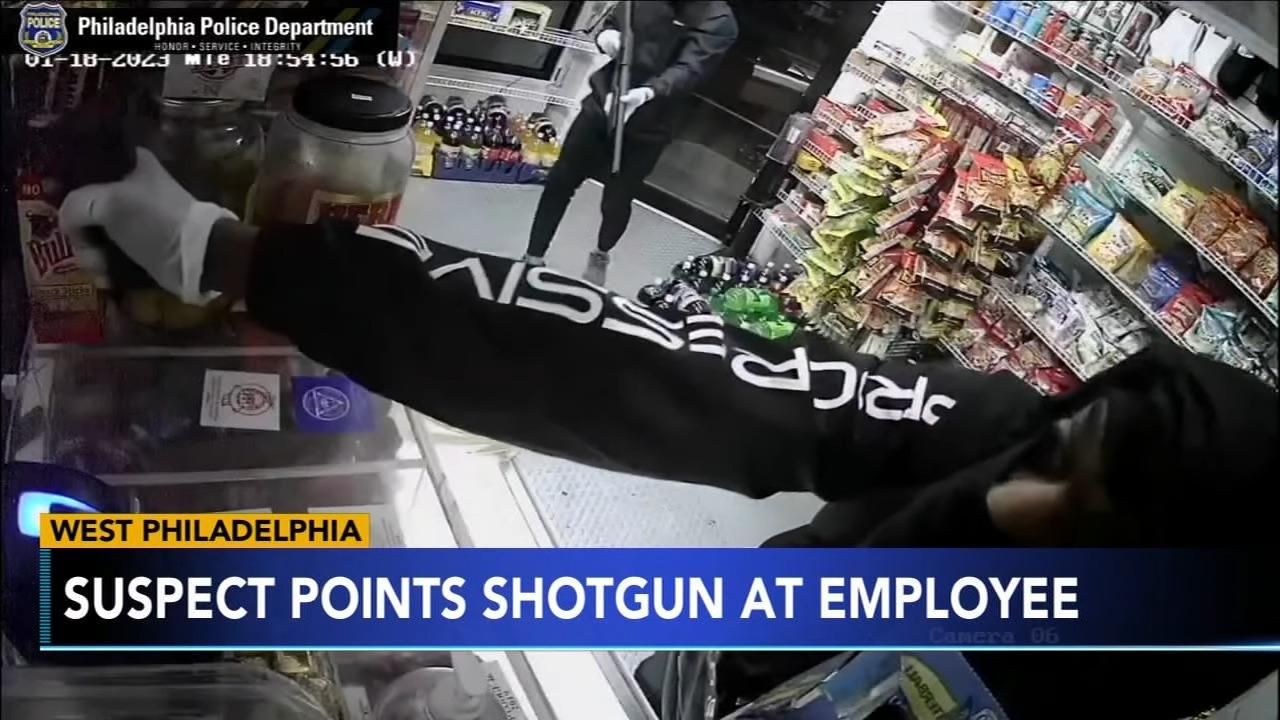pistol: (0, 80, 162, 297)
shotgun: (591, 0, 642, 179)
